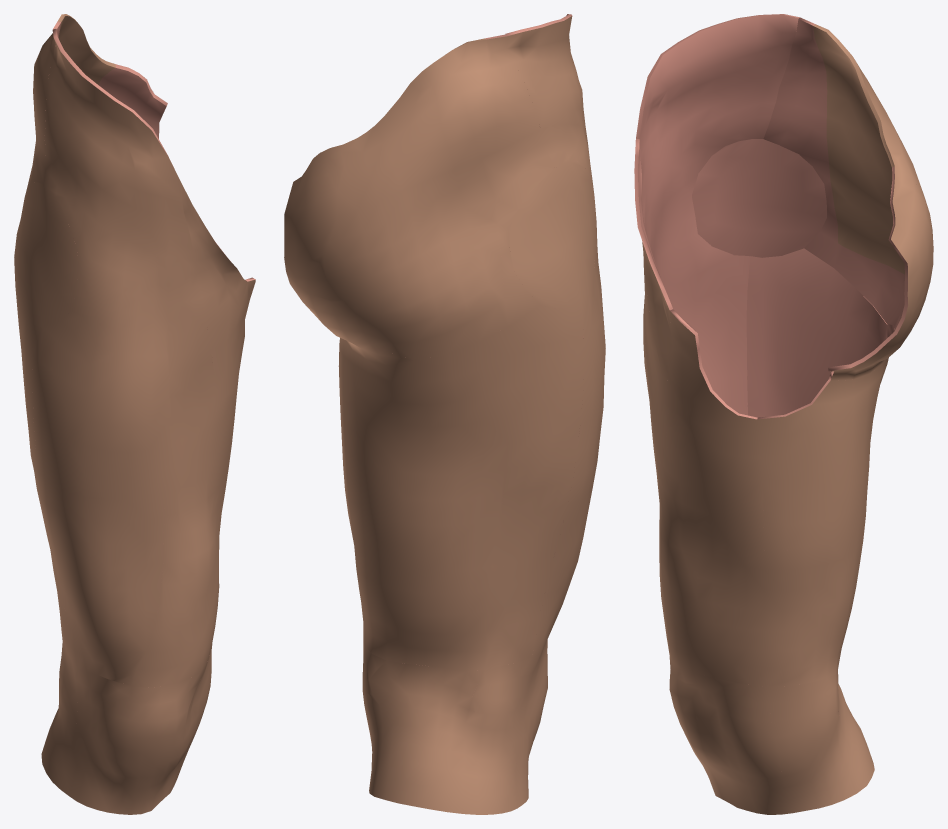
Rendered from skin.glb.
3 renders of one model, left to right at view 1: azimuth 30°, elevation 25°; view 2: azimuth 150°, elevation 25°; view 3: azimuth 270°, elevation 25°, orthographic. The views are drawn at different scales.
Parts seen in each view (by area): view 1: Anterior region of thigh.r, Anterior region of knee.r, Hip region.r, Gluteal region.r, Femoral triangle.r, Posterior region of knee.r, Posterior region of thigh.r; view 2: Posterior region of thigh.r, Gluteal region.r, Posterior region of knee.r, Anterior region of thigh.r, Hip region.r, Popliteal fossa.r, Anterior region of knee.r; view 3: Anterior region of thigh.r, Posterior region of thigh.r, Gluteal region.r, Hip region.r, Anterior region of knee.r, Posterior region of knee.r, Femoral triangle.r.
Boxes of the visible parts, <box> form: Anterior region of thigh.r: <box>32,29,255,687</box>; Anterior region of knee.r: <box>60,644,212,814</box>; Hip region.r: <box>14,182,79,326</box>; Gluteal region.r: <box>14,14,167,254</box>; Femoral triangle.r: <box>180,182,247,376</box>; Posterior region of knee.r: <box>41,642,77,789</box>; Posterior region of thigh.r: <box>15,287,72,661</box>; Posterior region of thigh.r: <box>338,300,583,671</box>; Gluteal region.r: <box>284,34,554,360</box>; Posterior region of knee.r: <box>362,639,531,814</box>; Anterior region of thigh.r: <box>505,14,605,656</box>; Hip region.r: <box>509,161,596,309</box>; Popliteal fossa.r: <box>369,660,474,722</box>; Anterior region of knee.r: <box>515,639,547,808</box>; Anterior region of thigh.r: <box>636,14,799,686</box>; Posterior region of thigh.r: <box>746,248,888,686</box>; Gluteal region.r: <box>763,17,933,374</box>; Hip region.r: <box>692,139,826,257</box>; Anterior region of knee.r: <box>669,656,792,814</box>; Posterior region of knee.r: <box>767,670,874,812</box>; Femoral triangle.r: <box>634,139,672,383</box>.
Size of the model in its own units: 0.1818 by 0.6361 by 0.2291.
